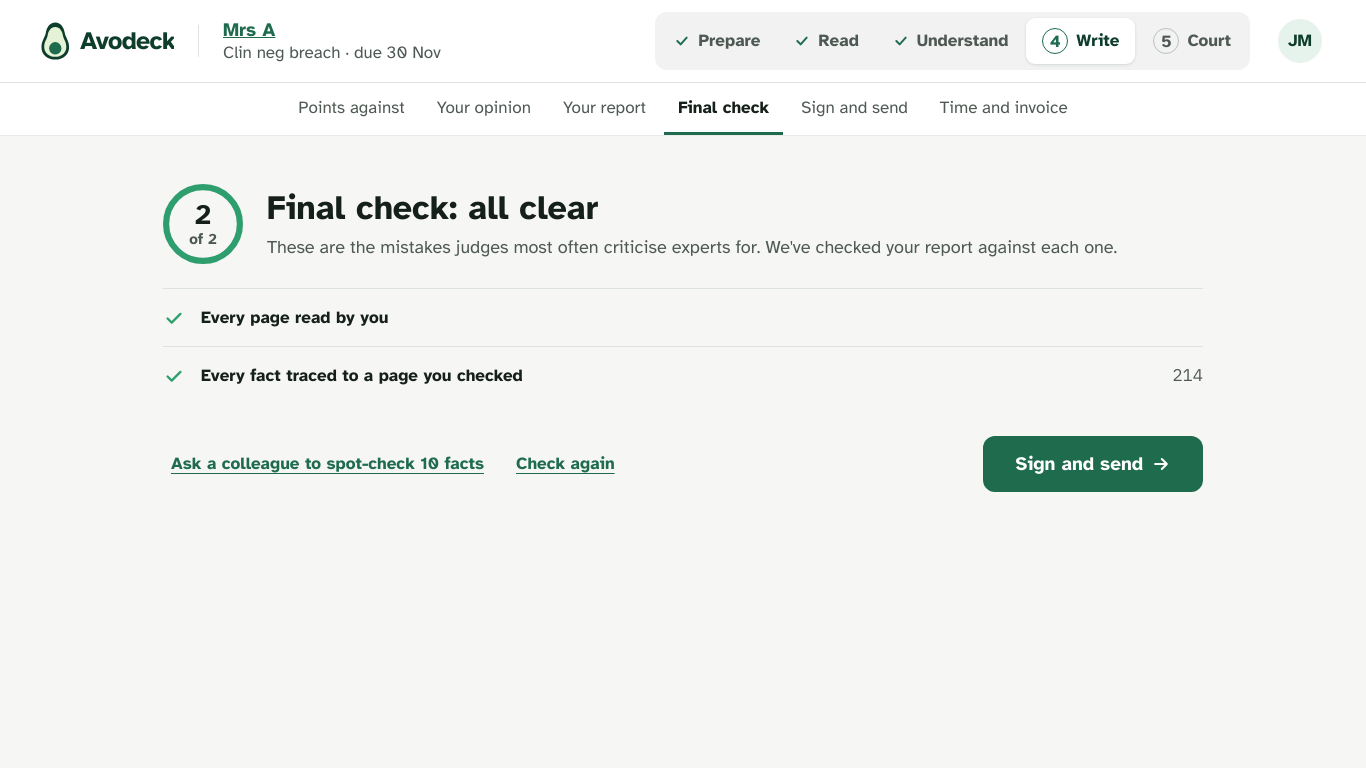
Test: past spot-checks show who answered, what they agreed with and any facts they disagreed with
The image size is (1366, 768).
Click the button "Ask a colleague to spot-check 10 facts".
click(328, 464)  # box [163,438,492,490]
(page scrolled)
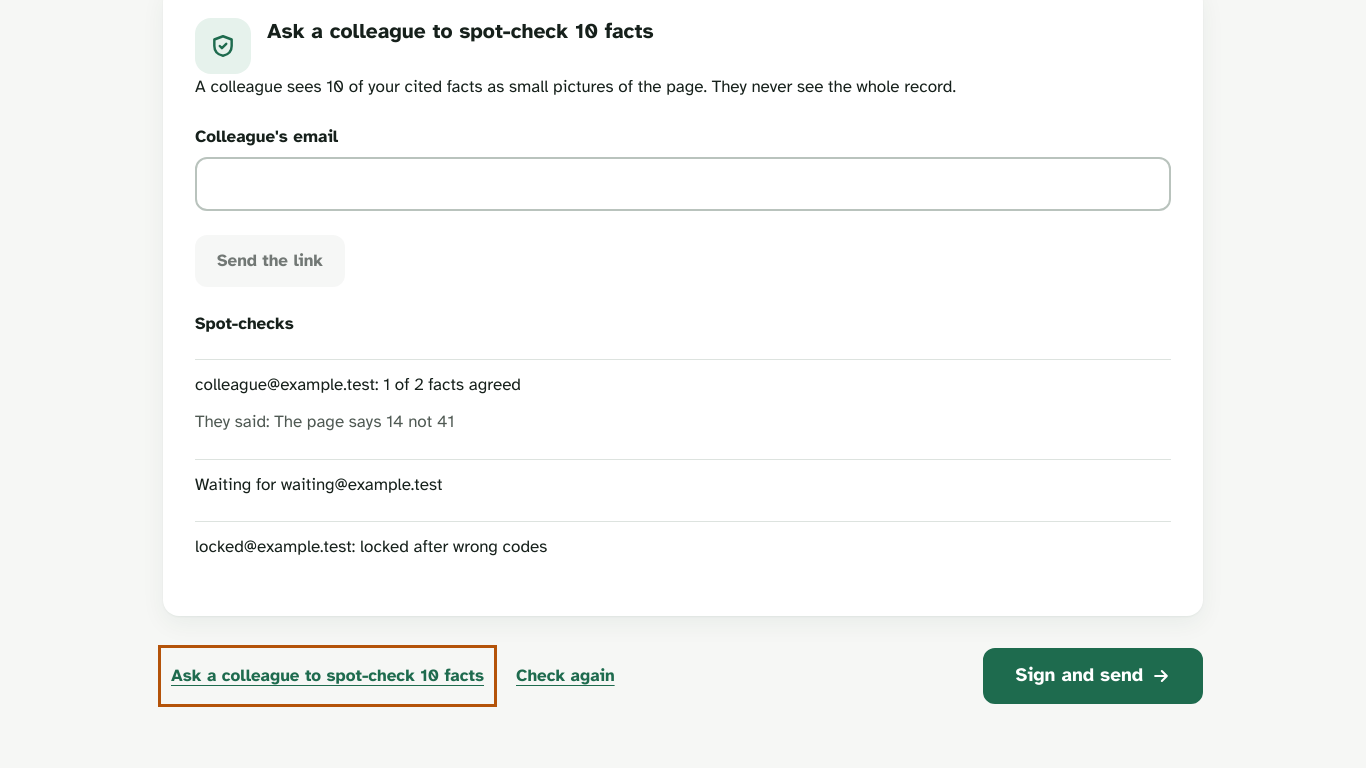
Expected: the text "colleague@example.test: 1 of 2 facts agreed" is shown, [195,374,521,395]
Expected: the text "The page says 14 not 41" is shown, [195,411,454,432]
Expected: the text "Waiting for waiting@example.test" is shown, [195,474,442,495]
